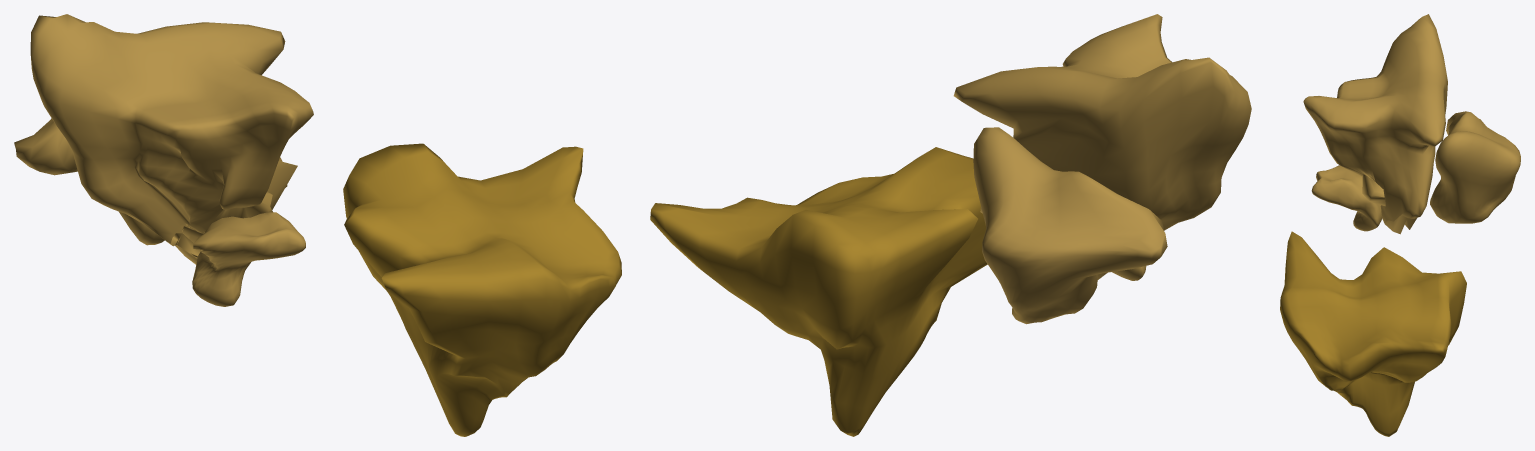
File: Island4-2.fbx
The picture shows the model from 3 angles, left to right: view 1: azimuth 30°, elevation 25°; view 2: azimuth 150°, elevation 25°; view 3: azimuth 270°, elevation 25°; orthographic projection. The views are drawn at different scales.
Parts seen in each view (by area): view 1: pCube1, pasted__pCube1, pCube3, pCube2; view 2: pCube1, pasted__pCube1, pCube2; view 3: pCube1, pasted__pCube1, pCube2, pCube3.
Part boxes in pixels (x1=…): pCube1: x1=343, y1=143, x2=621, y2=436; pasted__pCube1: x1=30, y1=14, x2=313, y2=264; pCube3: x1=192, y1=212, x2=305, y2=306; pCube2: x1=14, y1=118, x2=164, y2=245; pCube1: x1=650, y1=147, x2=987, y2=436; pasted__pCube1: x1=953, y1=14, x2=1251, y2=279; pCube2: x1=973, y1=127, x2=1167, y2=324; pCube1: x1=1280, y1=231, x2=1466, y2=436; pasted__pCube1: x1=1303, y1=14, x2=1447, y2=234; pCube2: x1=1430, y1=111, x2=1520, y2=223; pCube3: x1=1311, y1=165, x2=1382, y2=231.
Size of the model in its own units: 77.83 by 64.56 by 46.33.
